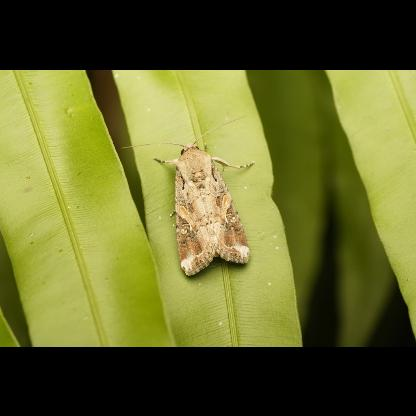Fall Armyworm Moth: (122, 113, 256, 277)
